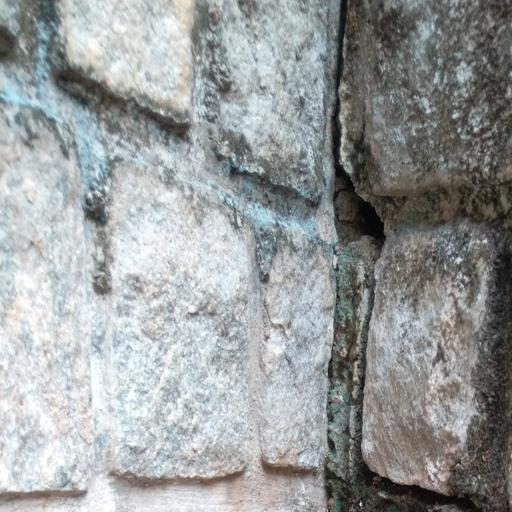major_crack: (306, 0, 481, 512)
